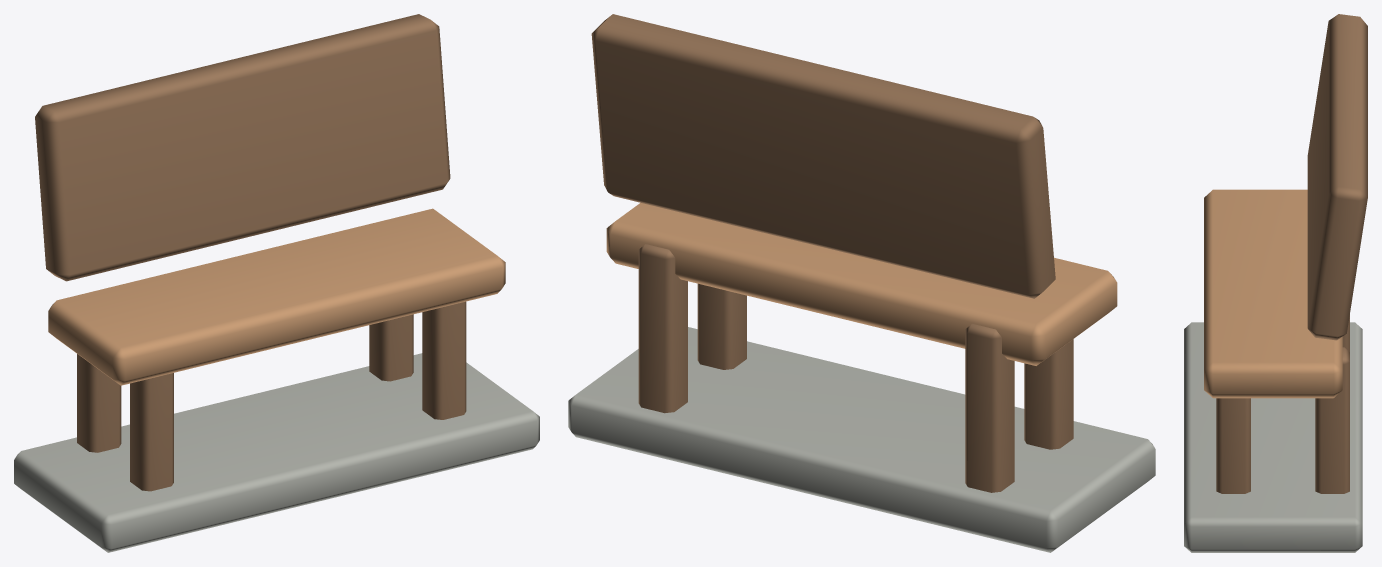
The model's file is MYB96_VillageBench.fbx.
3 views of the same model, side by side, from view 1: azimuth 30°, elevation 25°; view 2: azimuth 150°, elevation 25°; view 3: azimuth 270°, elevation 25° (orthographic). The views are drawn at different scales.
Visible parts, largest first — view 1: back, stone_footing, seat, front_leg_0.32, front_leg_-0.32, rear_leg_-0.32, rear_leg_0.32; view 2: back, stone_footing, seat, rear_leg_0.32, rear_leg_-0.32, front_leg_-0.32, front_leg_0.32; view 3: seat, stone_footing, back, rear_leg_0.32, front_leg_0.32.
Part boxes in pixels (x1,y1,x2,y2): back: (35, 14, 450, 281); stone_footing: (14, 353, 539, 552); seat: (48, 208, 505, 385); front_leg_0.32: (422, 301, 466, 419); front_leg_-0.32: (130, 373, 173, 491); rear_leg_-0.32: (77, 354, 121, 452); rear_leg_0.32: (369, 314, 413, 381); back: (591, 14, 1055, 298); stone_footing: (568, 327, 1155, 552); seat: (606, 202, 1117, 365); rear_leg_0.32: (638, 244, 687, 413); rear_leg_-0.32: (965, 324, 1014, 492); front_leg_-0.32: (1024, 339, 1073, 449); front_leg_0.32: (697, 283, 746, 369); seat: (1204, 189, 1342, 398); stone_footing: (1184, 322, 1362, 552); back: (1307, 14, 1367, 340); rear_leg_0.32: (1315, 347, 1349, 493); front_leg_0.32: (1216, 398, 1250, 493).
Bounding box in the file's own units: 96 × 79.14 × 37.08.
